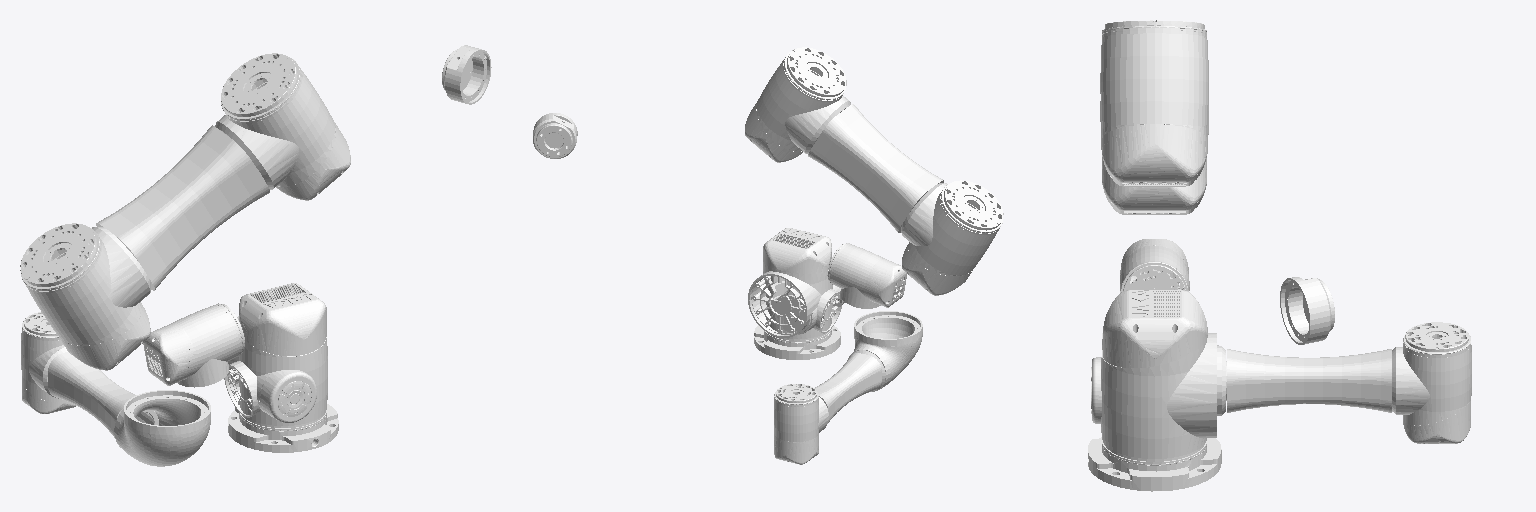
robot.urdf — jaka1012:
<robot
  name="jaka1012">
  <link
    name="base_link">
    <inertial>
      <origin
        xyz="-7.58274157915068E-05 0.000813871580432111 0.00873312635876805"
        rpy="0 0 0" />
      <mass
        value="0.272054564730731" />
      <inertia
        ixx="0"
        ixy="0"
        ixz="0"
        iyy="0"
        iyz="0"
        izz="0" />
    </inertial>
    <visual>
      <origin
        xyz="0 0 0"
        rpy="0 0 0" />
      <geometry>
        <mesh
          filename="package://jaka1012/meshes/base_link.STL" />
      </geometry>
      <material
        name="">
        <color
          rgba="1 1 1 1" />
      </material>
    </visual>
    <collision>
      <origin
        xyz="0 0 0"
        rpy="0 0 0" />
      <geometry>
        <mesh
          filename="package://jaka1012/meshes/base_link.STL" />
      </geometry>
    </collision>
  </link>
  <link
    name="link_1">
    <inertial>
      <origin
        xyz="4.91155796940399E-06 0.00346307580581019 0.00783360553776767"
        rpy="0 0 0" />
      <mass
        value="0.433362442716473" />
      <inertia
        ixx="0.00103274325449067"
        ixy="-1.38712647217067E-09"
        ixz="1.30736026433442E-08"
        iyy="0.00101774766498695"
        iyz="6.90341995612015E-05"
        izz="1.49955898881909E-05" />
    </inertial>
    <visual>
      <origin
        xyz="0 0 0"
        rpy="0 0 0" />
      <geometry>
        <mesh
          filename="package://jaka1012/meshes/link_1.STL" />
      </geometry>
      <material
        name="">
        <color
          rgba="1 1 1 1" />
      </material>
    </visual>
    <collision>
      <origin
        xyz="0 0 0"
        rpy="0 0 0" />
      <geometry>
        <mesh
          filename="package://jaka1012/meshes/link_1.STL" />
      </geometry>
    </collision>
  </link>
  <joint
    name="joint_1"
    type="revolute">
    <origin
      xyz="0 0.00092912 0.094295"
      rpy="-1.9722E-31 -3.9443E-31 -2.3447E-10" />
    <parent
      link="base_link" />
    <child
      link="link_1" />
    <axis
      xyz="0 0 1" />
    <limit
      effort="0"
      velocity="0" />
  </joint>
  <link
    name="link_2">
    <inertial>
      <origin
        xyz="0.142592657321296 0.15235334308642 0.0882499254872059"
        rpy="0 0 0" />
      <mass
        value="1.50129580331979" />
      <inertia
        ixx="0.0260687606124206"
        ixy="-5.84341048204956E-10"
        ixz="1.09393844763966E-09"
        iyy="0.00859870826843709"
        iyz="-0.011288161576065"
        izz="0.0216328907309336" />
    </inertial>
    <visual>
      <origin
        xyz="0 0 0"
        rpy="0 0 0" />
      <geometry>
        <mesh
          filename="package://jaka1012/meshes/link_2.STL" />
      </geometry>
      <material
        name="">
        <color
          rgba="1 1 1 1" />
      </material>
    </visual>
    <collision>
      <origin
        xyz="0 0 0"
        rpy="0 0 0" />
      <geometry>
        <mesh
          filename="package://jaka1012/meshes/link_2.STL" />
      </geometry>
    </collision>
  </link>
  <joint
    name="joint_2"
    type="revolute">
    <origin
      xyz="0.00025547 -0.00092912 0.35227"
      rpy="-2.0944 -7.2023E-16 1.5708" />
    <parent
      link="link_1" />
    <child
      link="link_2" />
    <axis
      xyz="0 -1 0" />
    <limit
      effort="0"
      velocity="0" />
  </joint>
  <link
    name="Link_3">
    <inertial>
      <origin
        xyz="0.0177651076640887 0.30520685007342 0.303842277866525"
        rpy="0 0 0" />
      <mass
        value="0.704144615698279" />
      <inertia
        ixx="0.00957933521551889"
        ixy="3.89089461416199E-08"
        ixz="0.000511256365163714"
        iyy="0.00976804795623844"
        iyz="-5.54184649849505E-08"
        izz="0.000188712824815712" />
    </inertial>
    <visual>
      <origin
        xyz="0 0 0"
        rpy="0 0 0" />
      <geometry>
        <mesh
          filename="package://jaka1012/meshes/Link_3.STL" />
      </geometry>
      <material
        name="">
        <color
          rgba="1 1 1 1" />
      </material>
    </visual>
    <collision>
      <origin
        xyz="0 0 0"
        rpy="0 0 0" />
      <geometry>
        <mesh
          filename="package://jaka1012/meshes/Link_3.STL" />
      </geometry>
    </collision>
  </link>
  <joint
    name="joint_3"
    type="revolute">
    <origin
      xyz="0 0.17557 0.30546"
      rpy="-2.618 5.5511E-16 5.5511E-16" />
    <parent
      link="link_2" />
    <child
      link="Link_3" />
    <axis
      xyz="0 -1 0" />
    <limit
      effort="0"
      velocity="0" />
  </joint>
  <link
    name="link_4">
    <inertial>
      <origin
        xyz="0.105695426990796 0.305774990570479 0.483270026475343"
        rpy="0 0 0" />
      <mass
        value="0.148546138588578" />
      <inertia
        ixx="0.000161066406102884"
        ixy="-2.3774180911987E-06"
        ixz="1.34483022547569E-05"
        iyy="0.000160010056282085"
        iyz="2.75105985218499E-05"
        izz="8.63293529558298E-06" />
    </inertial>
    <visual>
      <origin
        xyz="0 0 0"
        rpy="0 0 0" />
      <geometry>
        <mesh
          filename="package://jaka1012/meshes/link_4.STL" />
      </geometry>
      <material
        name="">
        <color
          rgba="1 1 1 1" />
      </material>
    </visual>
    <collision>
      <origin
        xyz="0 0 0"
        rpy="0 0 0" />
      <geometry>
        <mesh
          filename="package://jaka1012/meshes/link_4.STL" />
      </geometry>
    </collision>
  </link>
  <joint
    name="joint_4"
    type="fixed">
    <origin
      xyz="0 -0.079843 0.06039"
      rpy="-0.17453 8.8818E-16 -9.7145E-17" />
    <parent
      link="Link_3" />
    <child
      link="link_4" />
    <axis
      xyz="0 -1 0" />
  </joint>
  <link
    name="link_5">
    <inertial>
      <origin
        xyz="0.109013971319051 0.292941707052944 0.578942428981851"
        rpy="0 0 0" />
      <mass
        value="0.160232457061653" />
      <inertia
        ixx="0.000179088053824111"
        ixy="-1.0727653982616E-06"
        ixz="-2.04117656478202E-07"
        iyy="6.49147786368063E-06"
        iyz="-3.23343510436684E-05"
        izz="0.000172623910445256" />
    </inertial>
    <visual>
      <origin
        xyz="0 0 0"
        rpy="0 0 0" />
      <geometry>
        <mesh
          filename="package://jaka1012/meshes/link_5.STL" />
      </geometry>
      <material
        name="">
        <color
          rgba="1 1 1 1" />
      </material>
    </visual>
    <collision>
      <origin
        xyz="0 0 0"
        rpy="0 0 0" />
      <geometry>
        <mesh
          filename="package://jaka1012/meshes/link_5.STL" />
      </geometry>
    </collision>
  </link>
  <joint
    name="joint_5"
    type="fixed">
    <origin
      xyz="0.0022055 -0.00060813 -0.00010723"
      rpy="-2.8007E-06 -0.00099381 0.0056362" />
    <parent
      link="link_4" />
    <child
      link="link_5" />
    <axis
      xyz="0 0 1" />
  </joint>
  <link
    name="link_6">
    <inertial>
      <origin
        xyz="7.17480102292445E-05 0.0011523497867893 -0.0147687941484504"
        rpy="0 0 0" />
      <mass
        value="0.0718266452529442" />
      <inertia
        ixx="0"
        ixy="0"
        ixz="0"
        iyy="0"
        iyz="0"
        izz="0" />
    </inertial>
    <visual>
      <origin
        xyz="0 0 0"
        rpy="0 0 0" />
      <geometry>
        <mesh
          filename="package://jaka1012/meshes/link_6.STL" />
      </geometry>
      <material
        name="">
        <color
          rgba="1 1 1 1" />
      </material>
    </visual>
    <collision>
      <origin
        xyz="0 0 0"
        rpy="0 0 0" />
      <geometry>
        <mesh
          filename="package://jaka1012/meshes/link_6.STL" />
      </geometry>
    </collision>
  </link>
  <joint
    name="joint_6"
    type="continuous">
    <origin
      xyz="0.10851 0.20491 0.56579"
      rpy="1.7655 0.45721 0.081046" />
    <parent
      link="link_5" />
    <child
      link="link_6" />
    <axis
      xyz="-1 0 0" />
  </joint>
</robot>

--- What the picture shows (computed from the rendered views, not written in the file) ---
3 views of the same robot in one strip: view 1: azimuth 30°, elevation 25°; view 2: azimuth 150°, elevation 25°; view 3: azimuth 270°, elevation 25° (orthographic).
Model jaka1012 with 7 links and 6 joints (3 revolute, 1 continuous, 2 fixed), rooted at base_link, posed all joints at 0.
Links seen in each view (by area): view 1: link_2, Link_3, link_1, link_4, link_5, base_link, link_6; view 2: link_2, Link_3, link_1, link_4, link_6, base_link, link_5; view 3: link_2, link_1, Link_3, base_link, link_4, link_6, link_5.
Boxes of the visible links, bbox=[...] form: link_2: bbox=[20, 53, 350, 370]; Link_3: bbox=[21, 312, 210, 466]; link_1: bbox=[228, 283, 327, 430]; link_4: bbox=[143, 303, 244, 387]; link_5: bbox=[224, 361, 316, 422]; base_link: bbox=[228, 404, 338, 452]; link_6: bbox=[442, 45, 491, 104]; link_2: bbox=[745, 47, 1003, 295]; Link_3: bbox=[774, 311, 922, 464]; link_1: bbox=[748, 228, 832, 342]; link_4: bbox=[827, 243, 906, 308]; link_6: bbox=[533, 113, 577, 158]; base_link: bbox=[754, 325, 840, 359]; link_5: bbox=[774, 285, 844, 334]; link_2: bbox=[1100, 20, 1208, 214]; link_1: bbox=[1101, 290, 1216, 465]; Link_3: bbox=[1102, 322, 1471, 443]; base_link: bbox=[1088, 437, 1221, 491]; link_4: bbox=[1120, 239, 1189, 292]; link_6: bbox=[1280, 277, 1334, 344]; link_5: bbox=[1091, 357, 1101, 423].
Bounding box of the posed robot: 0.8076 × 0.4221 × 0.5879 m (x, y, z).
Meshes: 7 distinct files referenced, 7 mesh visuals loaded (7 binary STL).
